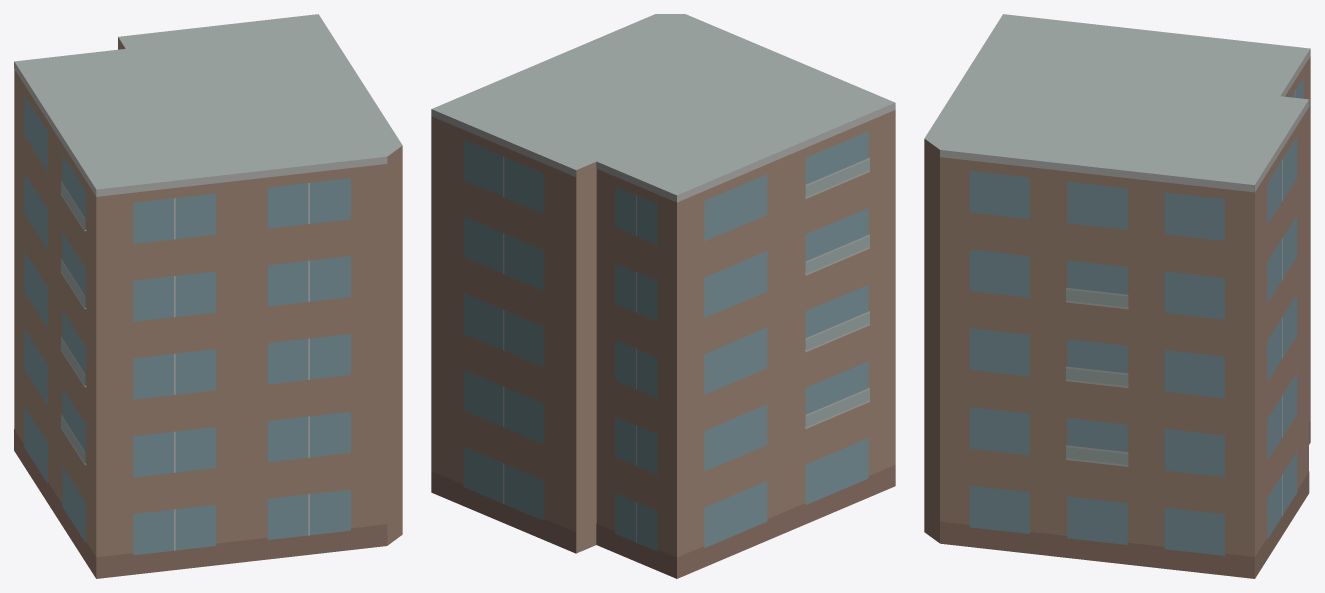
The model's file is survey-upis-32871095.glb.
3 renders of one model, left to right at view 1: azimuth 30°, elevation 25°; view 2: azimuth 150°, elevation 25°; view 3: azimuth 270°, elevation 25°, orthographic. The views are drawn at different scales.
Parts seen in each view (by area): view 1: survey-upis-32871095.tmp; view 2: survey-upis-32871095.tmp; view 3: survey-upis-32871095.tmp.
Boxes of the visible parts, x1,y1,x2,y2 form: survey-upis-32871095.tmp: (14,14,402,578); survey-upis-32871095.tmp: (431,14,895,578); survey-upis-32871095.tmp: (924,14,1310,578).
Bounding box in the file's own units: 12.31 × 13.2 × 11.75.
